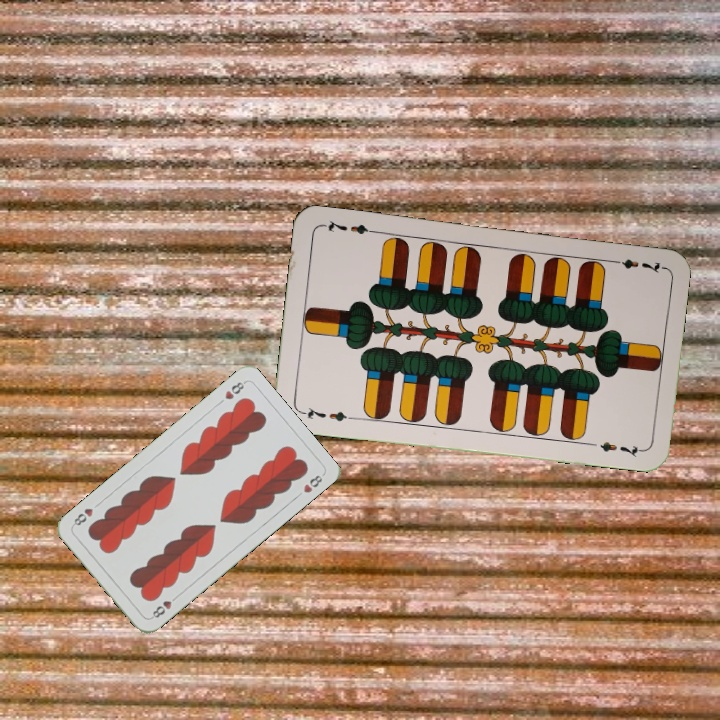E7: (297, 403, 356, 424), (606, 255, 665, 276)
H8: (147, 591, 181, 621), (221, 377, 248, 402)
